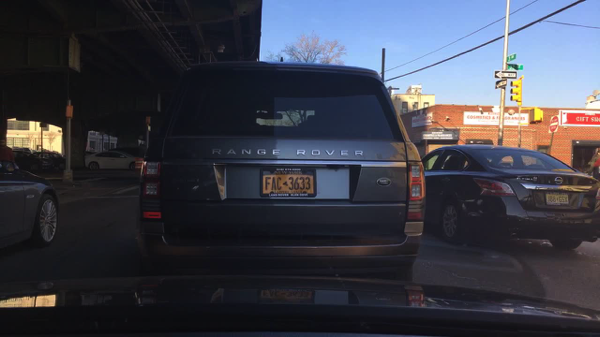car: (133, 59, 425, 283), (418, 143, 599, 251), (1, 162, 60, 261), (84, 150, 146, 172), (11, 147, 46, 174), (34, 150, 67, 170), (584, 150, 599, 184)
person: (14, 148, 55, 174), (0, 137, 11, 174)
traffic light: (509, 76, 523, 105), (509, 78, 524, 103), (528, 108, 543, 125), (65, 104, 75, 122), (144, 115, 152, 123)
traffic sign: (493, 70, 517, 79), (548, 114, 559, 133), (506, 63, 524, 73), (495, 79, 508, 89), (506, 54, 515, 61), (146, 126, 152, 132)
